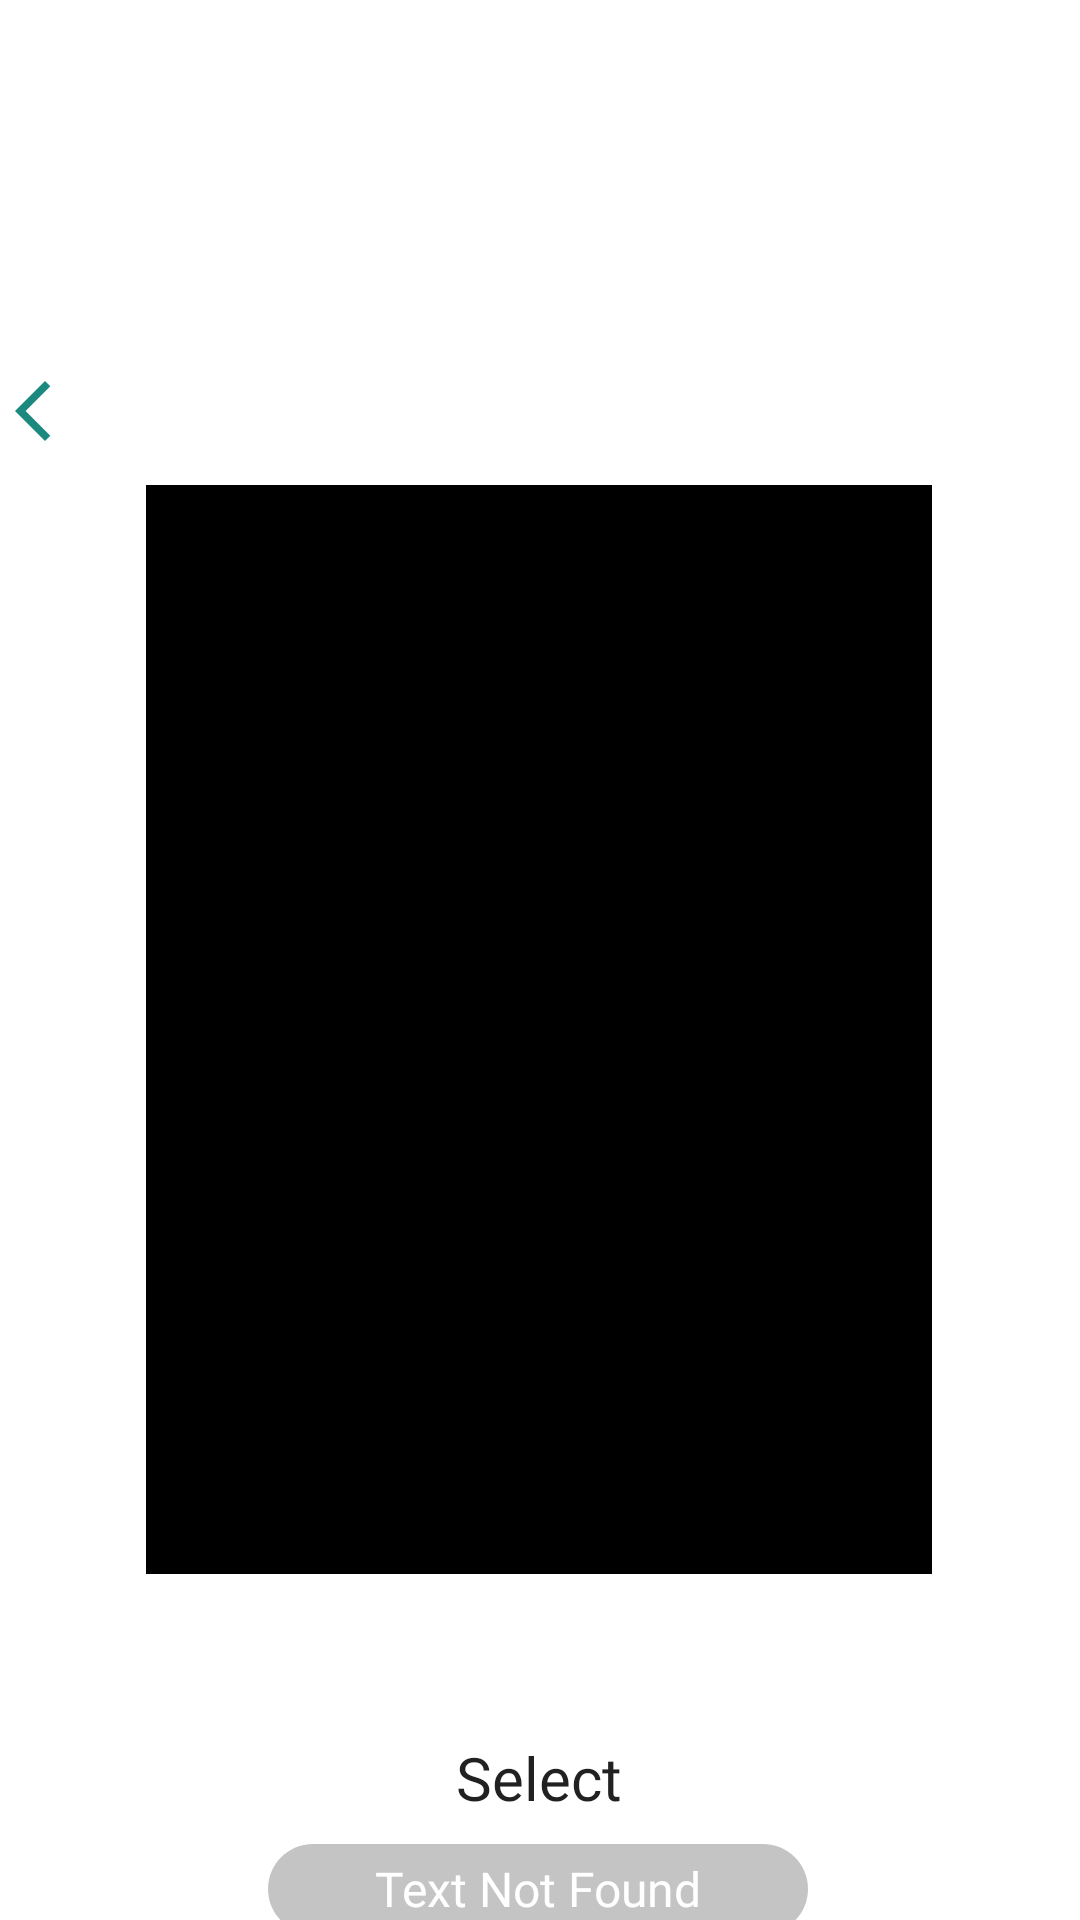

Icon bounding boxes for this 1080x1920 phone screenshot, format (x1, y1, x2, y2):
arrow: (15, 381, 50, 441)
